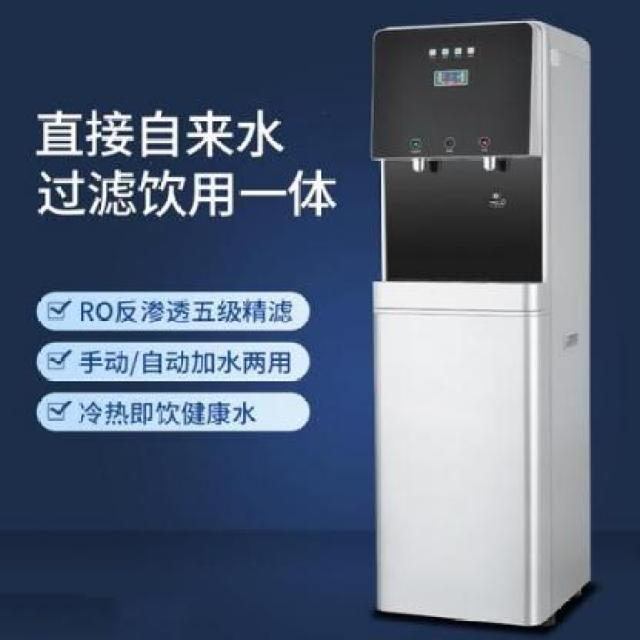cooler: (360, 12, 599, 632)
